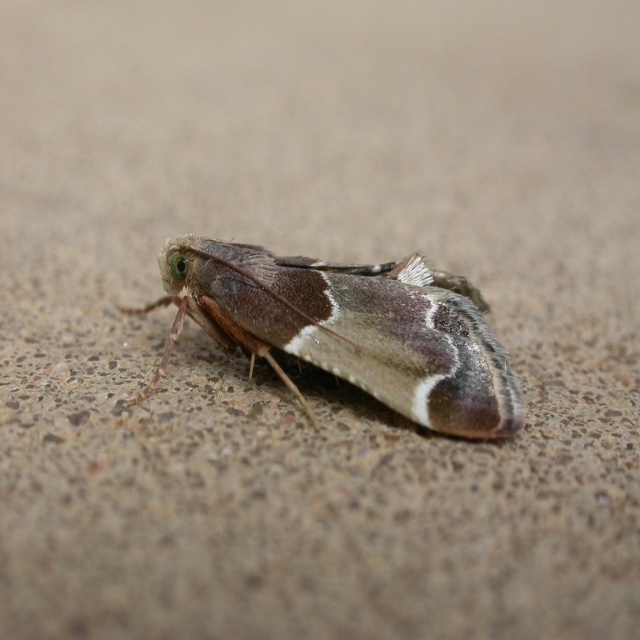Moths and butterflies: (109, 232, 530, 443)
